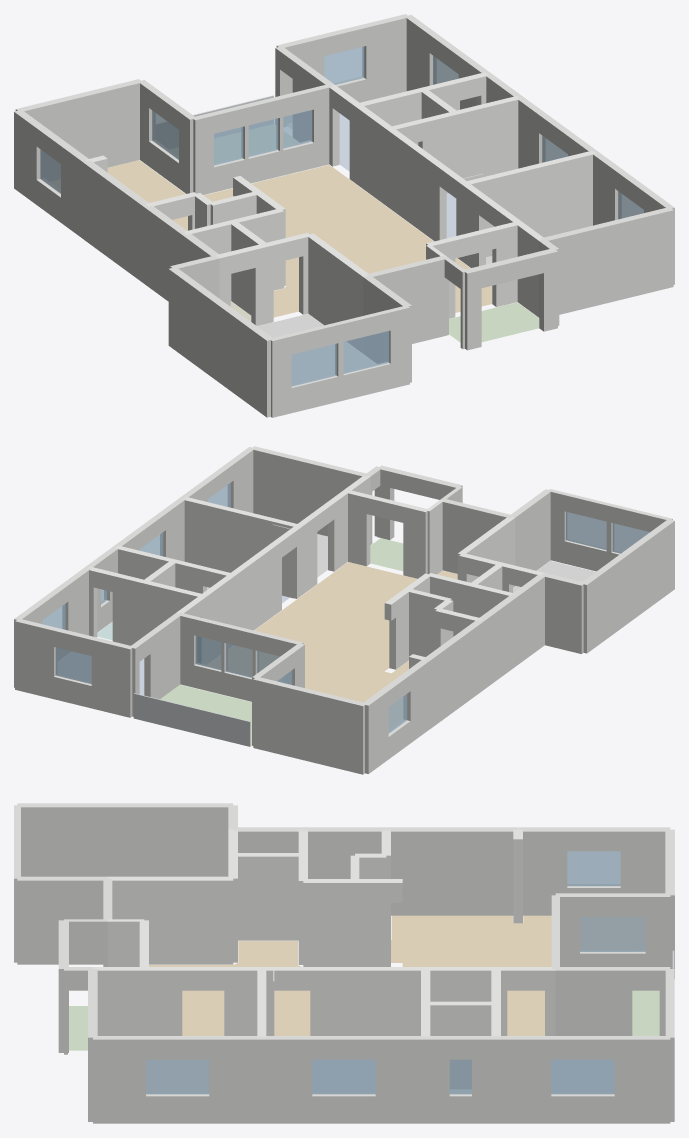
Rendered from autocad_plan_3d.glb.
3 views of the same model, one above another, from view 1: azimuth 30°, elevation 25°; view 2: azimuth 150°, elevation 25°; view 3: azimuth 270°, elevation 25° (orthographic). The views are drawn at different scales.
Visible parts, largest first — view 1: floor_R3_living_126, wall_W20_43, wall_W23_54, wall_W14_31, wall_W1_0, wall_W24_55, wall_W40_84, wall_W8_23, wall_W30_64, wall_W19_42, wall_W2_4, wall_W39_83 (+71 smaller); view 2: floor_R3_living_126, wall_W1_0, wall_W23_54, wall_W20_43, wall_W14_31, wall_W24_55, wall_W40_84, railing_R1_123, wall_W2_1, wall_W2_4, wall_W15_32, wall_W25_56 (+61 smaller); view 3: floor_R3_living_126, wall_W23_54, wall_W24_55, wall_W30_64, wall_W40_84, wall_W31_65, wall_W28_62, wall_W37_79, wall_W46_95, wall_W46_98, wall_W49_107, wall_W49_110 (+59 smaller).
Part boxes in pixels (x1,y1,x2,y2): floor_R3_living_126: (51,160,492,317); wall_W20_43: (540,207,673,314); wall_W23_54: (168,268,272,417); wall_W14_31: (463,150,595,257); wall_W1_0: (15,79,142,181); wall_W24_55: (83,160,148,282); wall_W40_84: (387,129,446,241); wall_W8_23: (453,95,520,178); wall_W30_64: (306,233,369,352); wall_W19_42: (365,255,446,343); wall_W2_4: (362,14,409,100); wall_W39_83: (354,105,391,205); floor_R3_living_126: (208,562,457,729); wall_W1_0: (253,676,366,774); wall_W23_54: (582,519,674,653); wall_W20_43: (251,446,368,536); wall_W14_31: (182,496,300,572); wall_W24_55: (424,619,484,728); wall_W40_84: (231,540,281,630); railing_R1_123: (133,693,250,746); wall_W2_1: (91,637,133,717); wall_W2_4: (15,618,57,699); wall_W15_32: (541,573,585,653); wall_W25_56: (478,594,518,689); floor_R3_living_126: (149,915,645,1035); wall_W23_54: (17,803,233,876); wall_W24_55: (386,827,517,915); wall_W30_64: (107,876,233,964); wall_W40_84: (310,967,425,1035); wall_W31_65: (17,876,107,964); wall_W28_62: (233,853,303,940); wall_W37_79: (555,967,632,1035); wall_W46_95: (614,1036,670,1123); wall_W46_98: (496,1036,551,1123); wall_W49_107: (209,1036,261,1123); wall_W49_110: (93,1036,145,1123).
Size of the model in its own units: 16.58 by 2.75 by 19.6.
